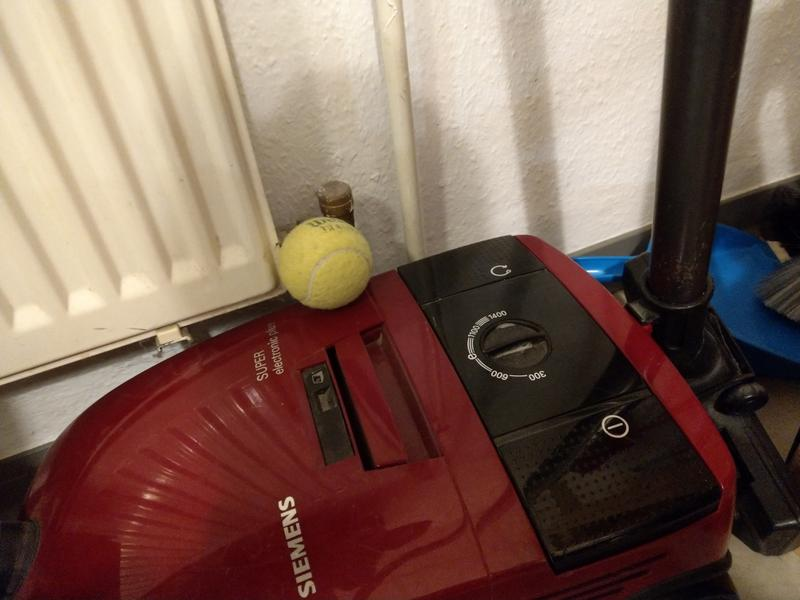Tennisball: (274, 213, 378, 314)
